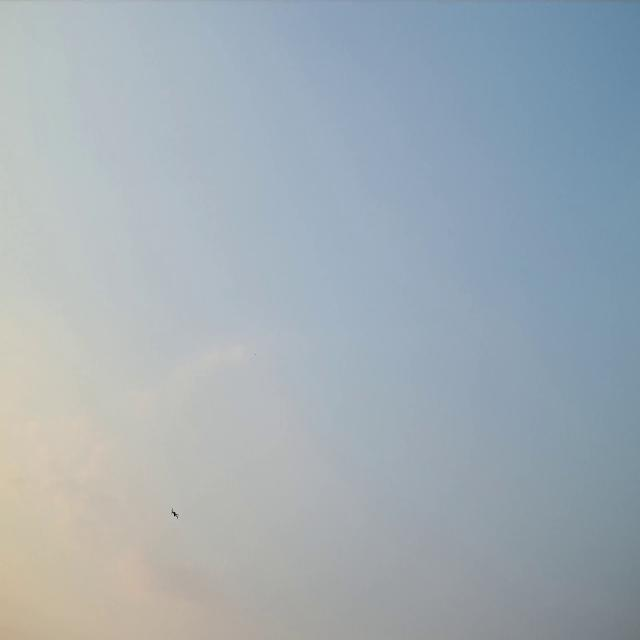UAV: (172, 510, 178, 517)
